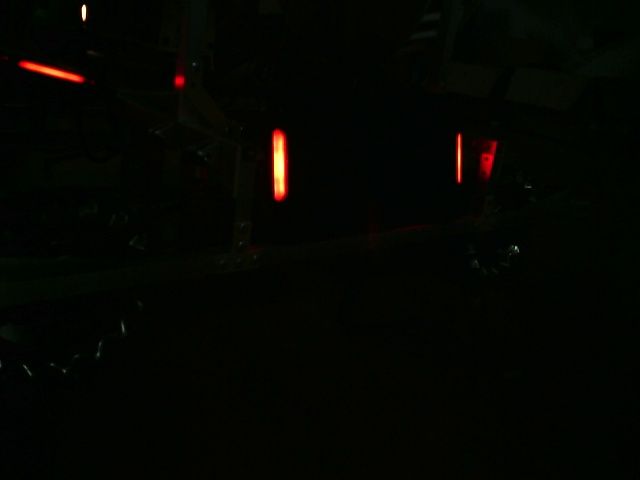lamp: (267, 127, 290, 204)
